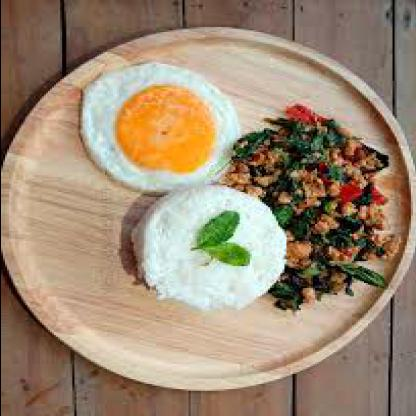Basil Rice: (62, 59, 392, 333)
